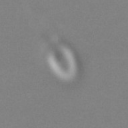normal: (20, 1, 56, 46)
